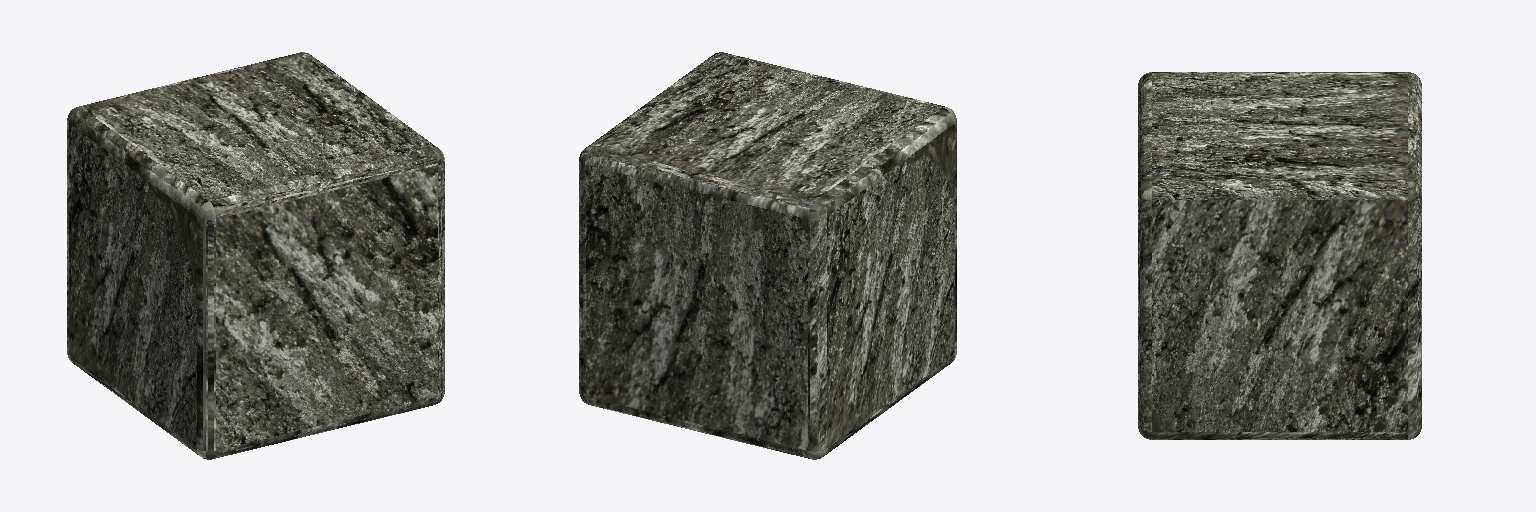
3 renders of one model, left to right at view 1: azimuth 30°, elevation 25°; view 2: azimuth 150°, elevation 25°; view 3: azimuth 270°, elevation 25°, orthographic.
Visible parts, largest first — view 1: Cube; view 2: Cube; view 3: Cube.
Part boxes in pixels (left/top/right/bottom): Cube: left=67, top=52, right=444, bottom=459; Cube: left=579, top=52, right=956, bottom=459; Cube: left=1138, top=72, right=1421, bottom=439.
Bounding box in the file's own units: 2 × 2 × 2.
1 materials, 1 textured.